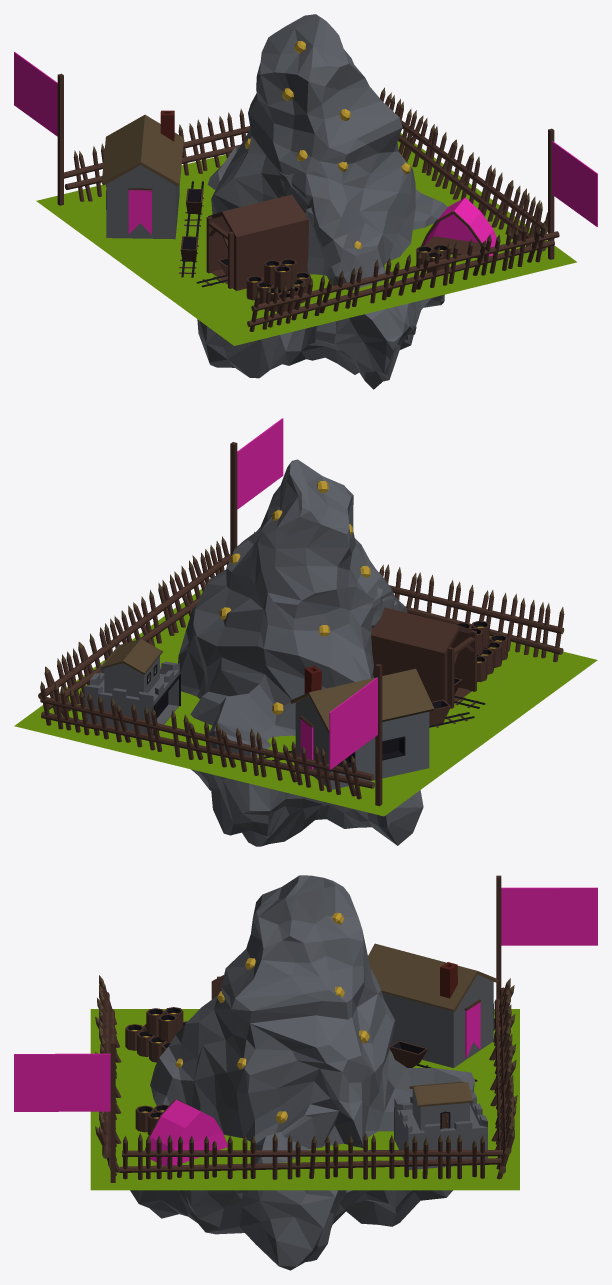
File: updatedMineLV3.fbx
3 renders of one model, top to bottom at view 1: azimuth 30°, elevation 25°; view 2: azimuth 150°, elevation 25°; view 3: azimuth 270°, elevation 25°, orthographic. The views are drawn at different scales.
Visible parts, largest first — view 1: Camp, Moutain, Ground; view 2: Camp, Moutain, Ground; view 3: Moutain, Camp, Ground.
Part boxes in pixels (x1,y1,x2,y2): Camp: (14,41,597,331); Moutain: (197,14,447,389); Ground: (36,133,576,345); Camp: (38,418,564,806); Moutain: (178,459,423,846); Ground: (14,589,597,816); Moutain: (130,875,474,1270); Camp: (14,875,597,1182); Ground: (90,1009,519,1190).
Size of the model in its own units: 2283 by 2098 by 3105.
